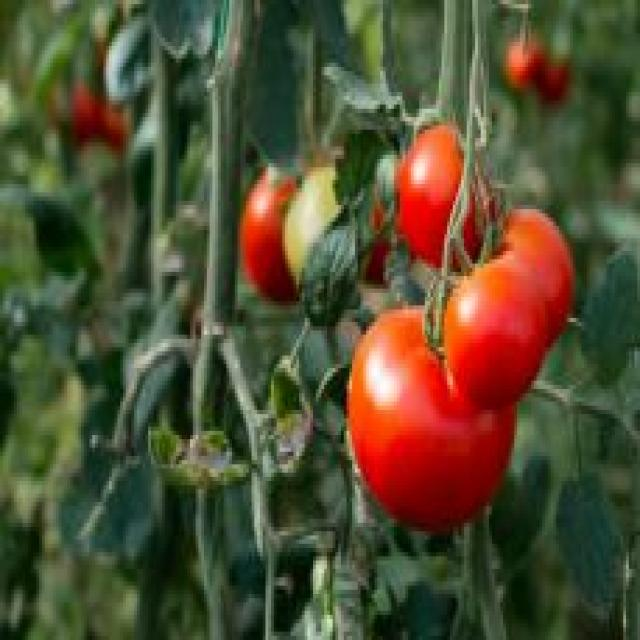level 2: (277, 153, 380, 305)
level 5: (477, 203, 587, 336)
level 6: (335, 294, 524, 564), (439, 261, 564, 417), (383, 100, 493, 264), (231, 150, 310, 300)
